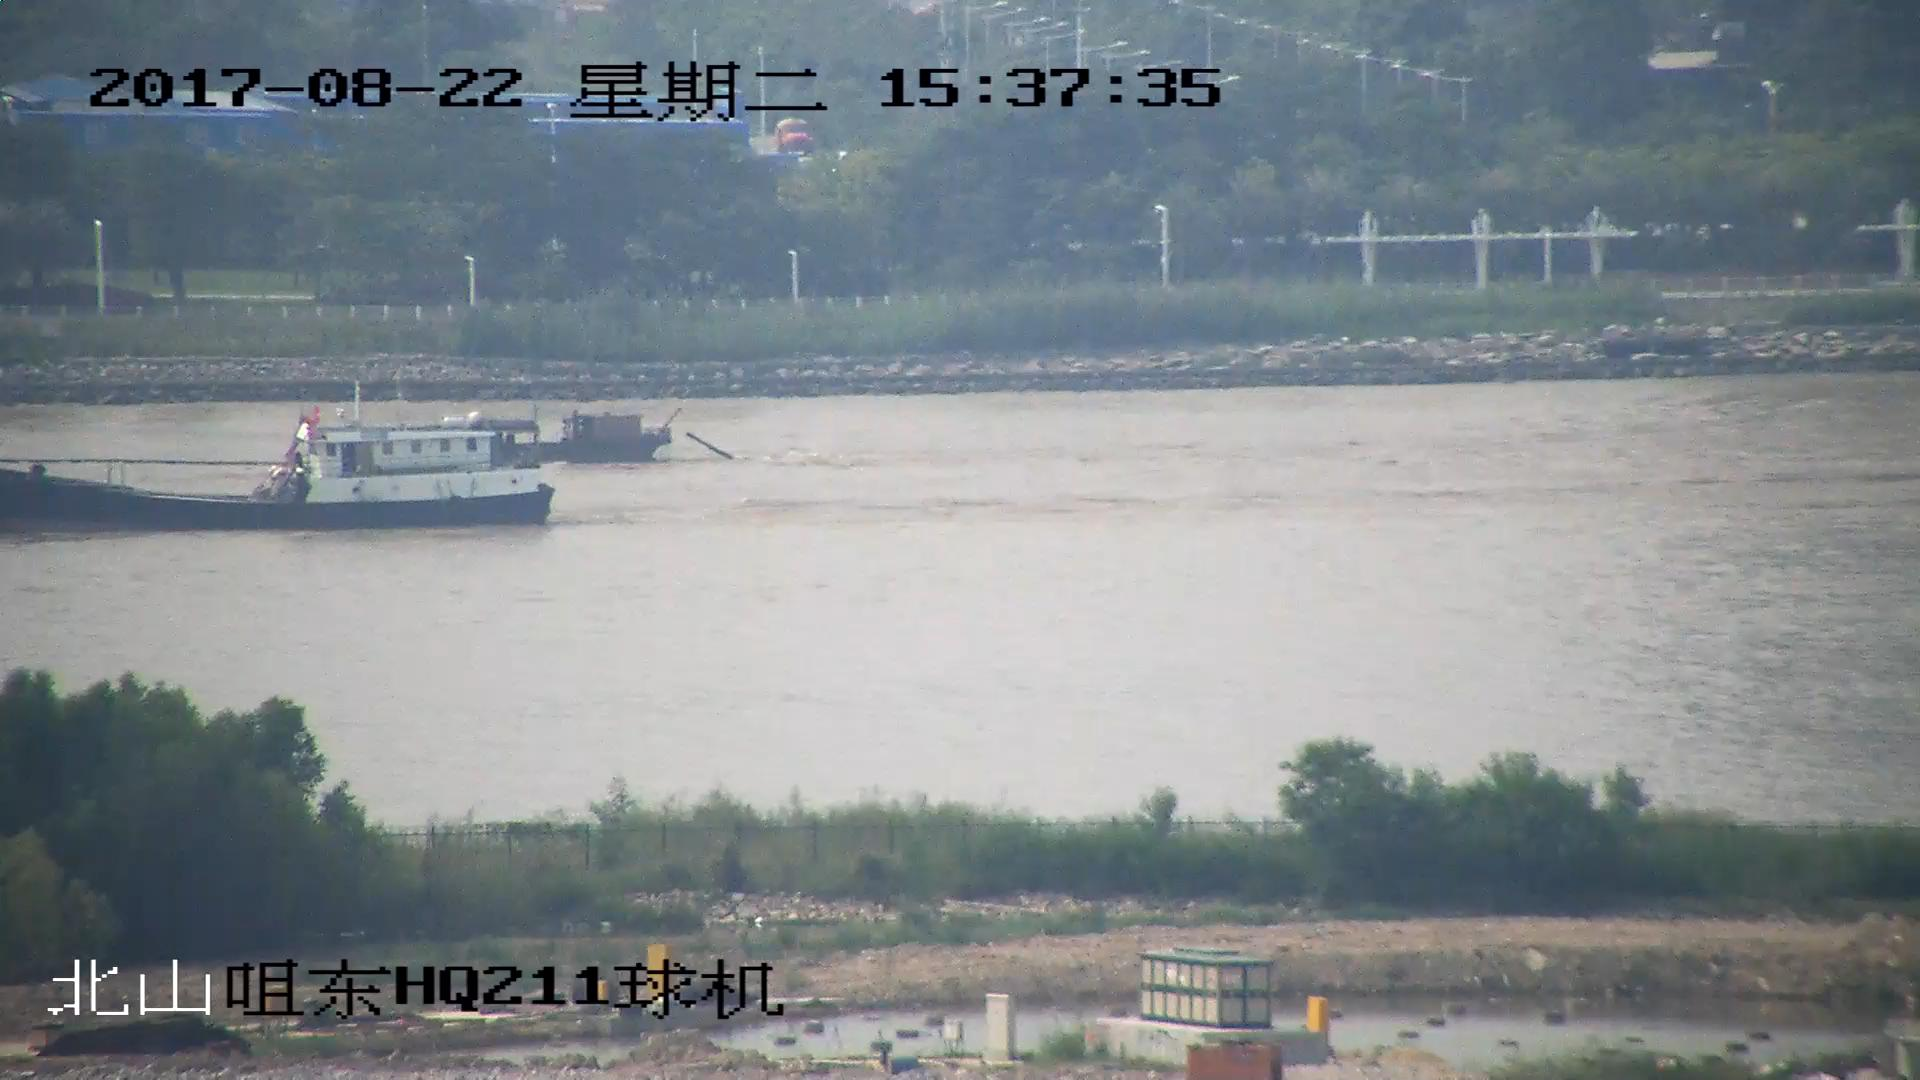fishing boat: (1, 412, 561, 531), (472, 414, 736, 474)
